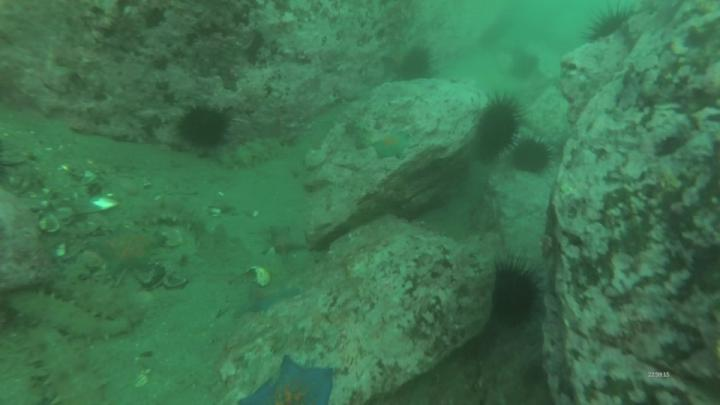echinus: (497, 271, 537, 327), (478, 101, 516, 157), (181, 111, 229, 149), (511, 139, 550, 172), (400, 48, 428, 79)
holothurian: (25, 329, 104, 403), (10, 289, 128, 338), (58, 284, 145, 324), (114, 201, 210, 229), (227, 138, 295, 168)
starfish: (233, 356, 335, 405), (85, 228, 165, 270), (373, 132, 412, 161)
